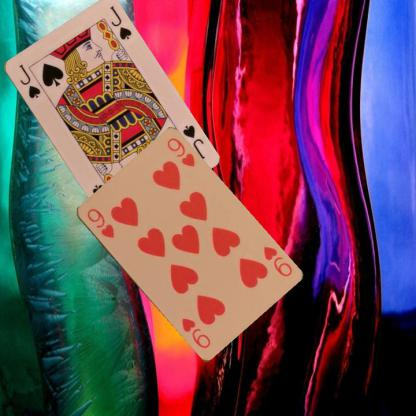9h: (260, 244, 294, 278), (84, 205, 116, 240)
Js: (16, 61, 42, 100), (180, 122, 206, 161)
